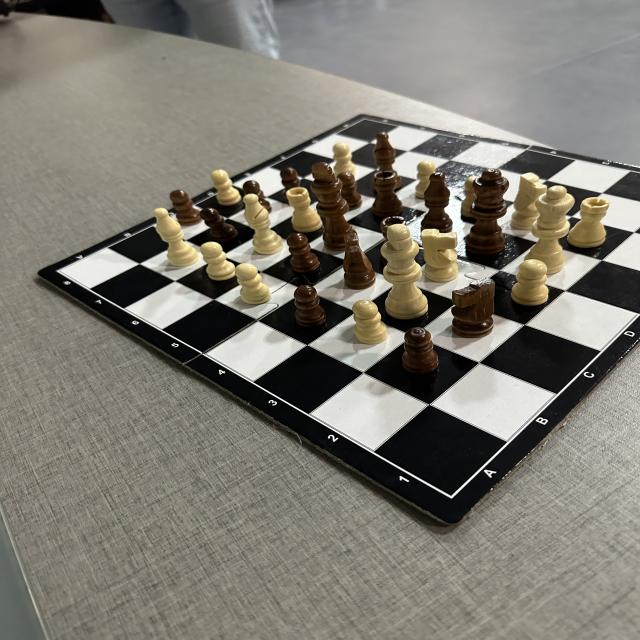Black-Bishop: (422, 173, 453, 232), (374, 132, 400, 190)
Black-King: (310, 162, 360, 250)
Black-Knight: (451, 278, 495, 338), (342, 233, 376, 290)
Black-Pawn: (399, 326, 438, 374), (293, 284, 325, 328), (287, 232, 319, 272), (202, 206, 237, 242), (171, 190, 201, 225), (242, 180, 273, 213), (338, 171, 362, 209), (279, 168, 302, 190)
Black-Queen: (466, 169, 509, 255)
Black-Rook: (372, 171, 402, 219), (382, 215, 404, 231)
White-Bishop: (154, 209, 199, 267), (243, 193, 283, 255)
White-King: (381, 224, 431, 318)
White-Knight: (509, 173, 546, 230), (423, 228, 460, 283)
White-Pawn: (512, 259, 547, 306), (353, 299, 388, 344), (200, 240, 237, 280), (238, 262, 272, 304), (211, 169, 241, 204), (415, 161, 440, 199), (332, 143, 357, 177), (461, 175, 477, 215)
White-Queen: (526, 185, 574, 274)
White-Rook: (568, 197, 610, 248), (288, 186, 322, 233)
